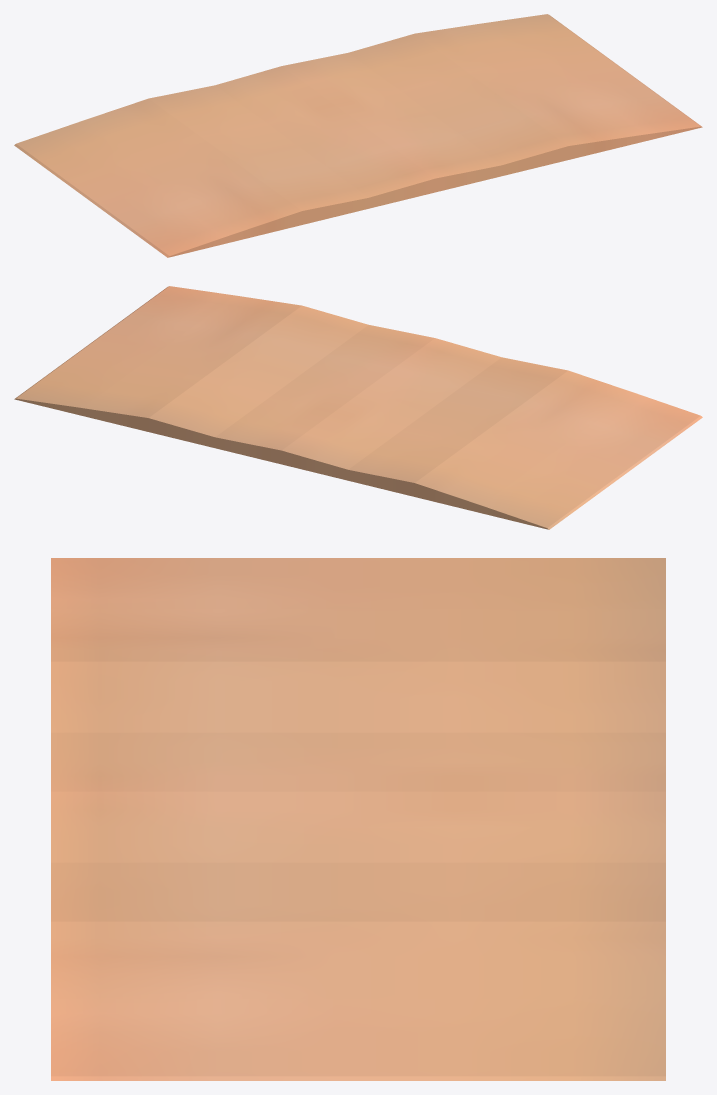
The model's file is DirtBikeSandTrack.glb.
3 views of the same model, one above another, from view 1: azimuth 30°, elevation 25°; view 2: azimuth 150°, elevation 25°; view 3: azimuth 270°, elevation 25° (orthographic). The views are drawn at different scales.
Visible parts, largest first — view 1: DirtBikeSandTrack; view 2: DirtBikeSandTrack; view 3: DirtBikeSandTrack.
Boxes of the visible parts, x1,y1,x2,y2 form: DirtBikeSandTrack: (14,14,702,257); DirtBikeSandTrack: (14,286,702,529); DirtBikeSandTrack: (51,558,665,1080).
Size of the model in its own units: 8.04 by 0.2016 by 4.
Materials: 1 (1 with a texture image).
